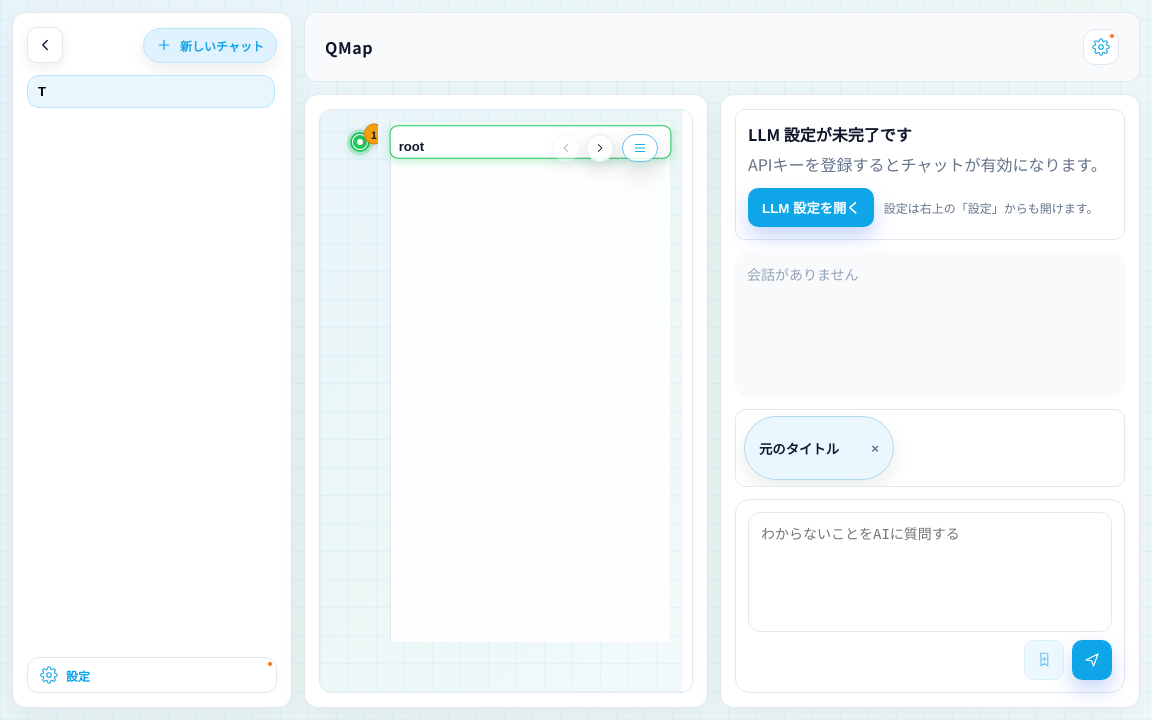
Test: later node promotion › 下書きを自動入力し、昇格時に同じノードを更新する
This screenshot has width=1152, height=720.
Click the button "元のタイトル": (811, 448) [759,438,863,458]
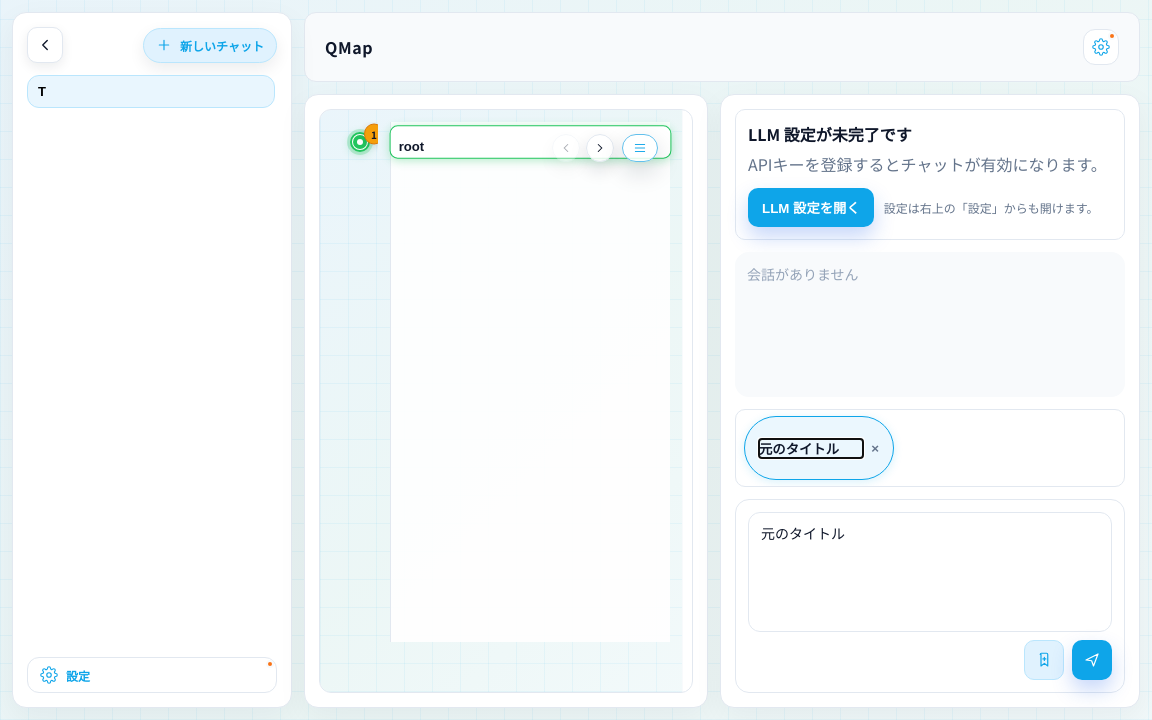
Now the text box with placeholder "わからないことをAIに質問する" holds "元のタイトル"
Replace the text in the text box with placeholder "わからないことをAIに質問する" with "編集後の質問": (930, 572) [748,512,1112,632]
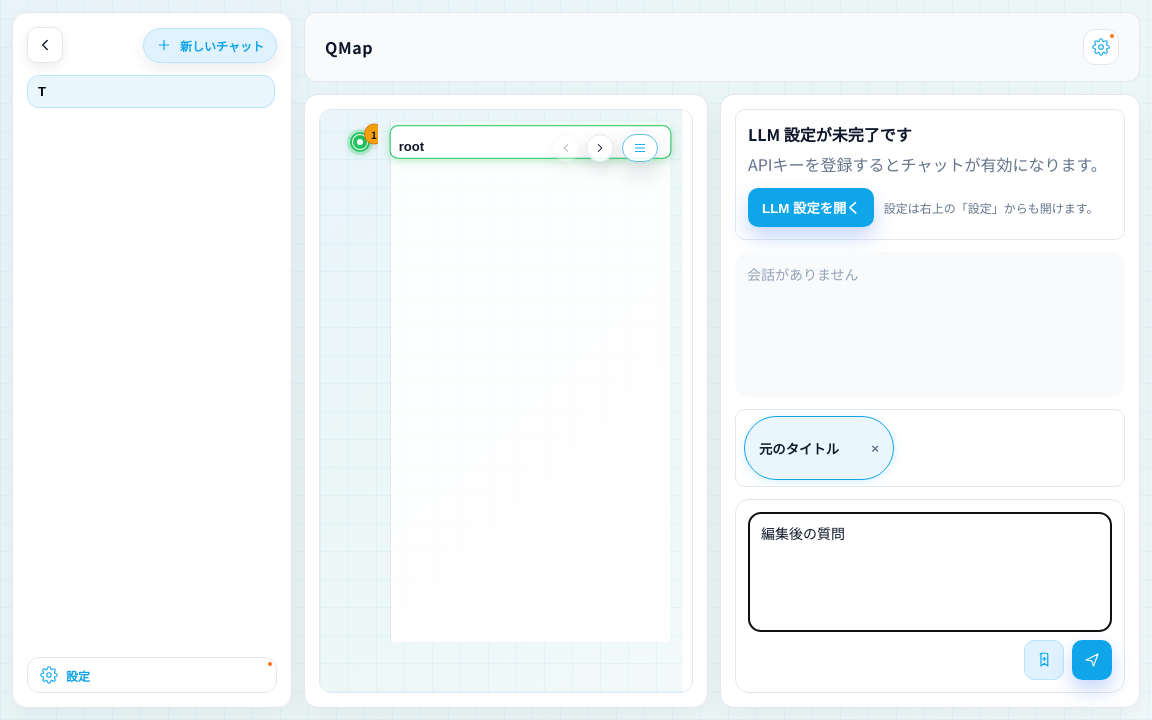
Click the button named "送信": (1092, 660) [1072,640,1112,680]
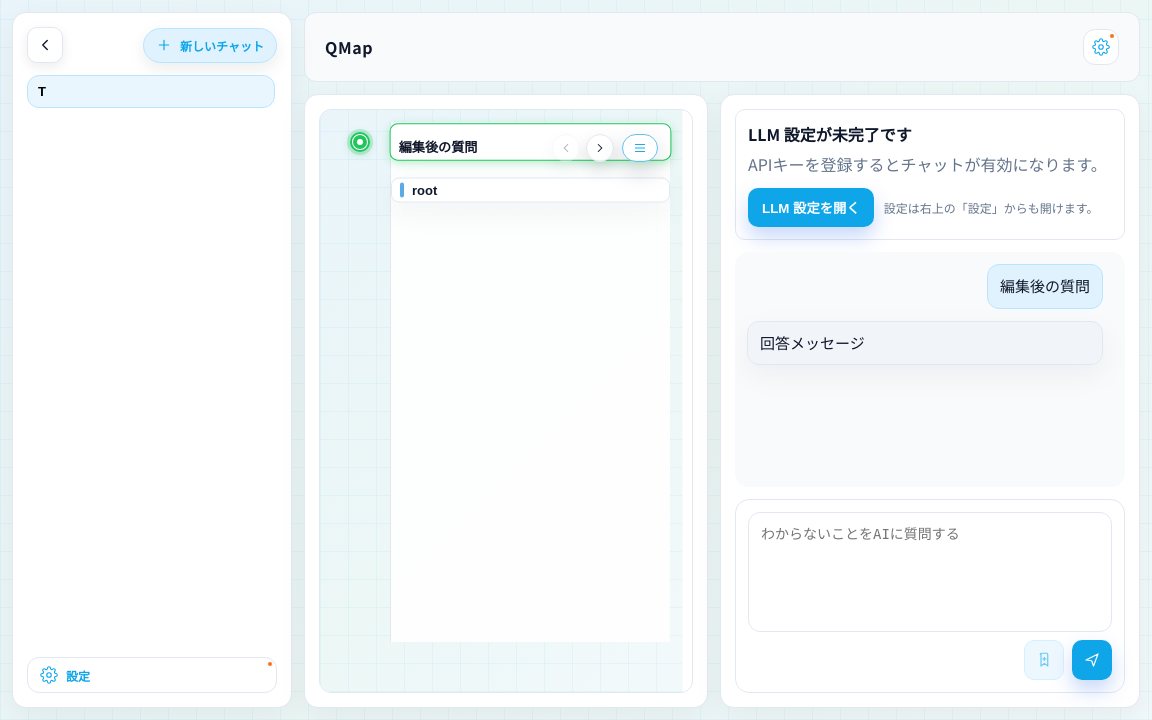
Now the number of elements with class "bubble-flat" is 2, box [987,264,1103,308]; [747,320,1103,365]
Now the element with class "bubble-content" below "設定は右上の「設定」からも開けます。" reads "編集後の質問", box [1000,275,1090,296]
Now the element with class "bubble-content" reads "回答メッセージ", box [760,332,865,352]
